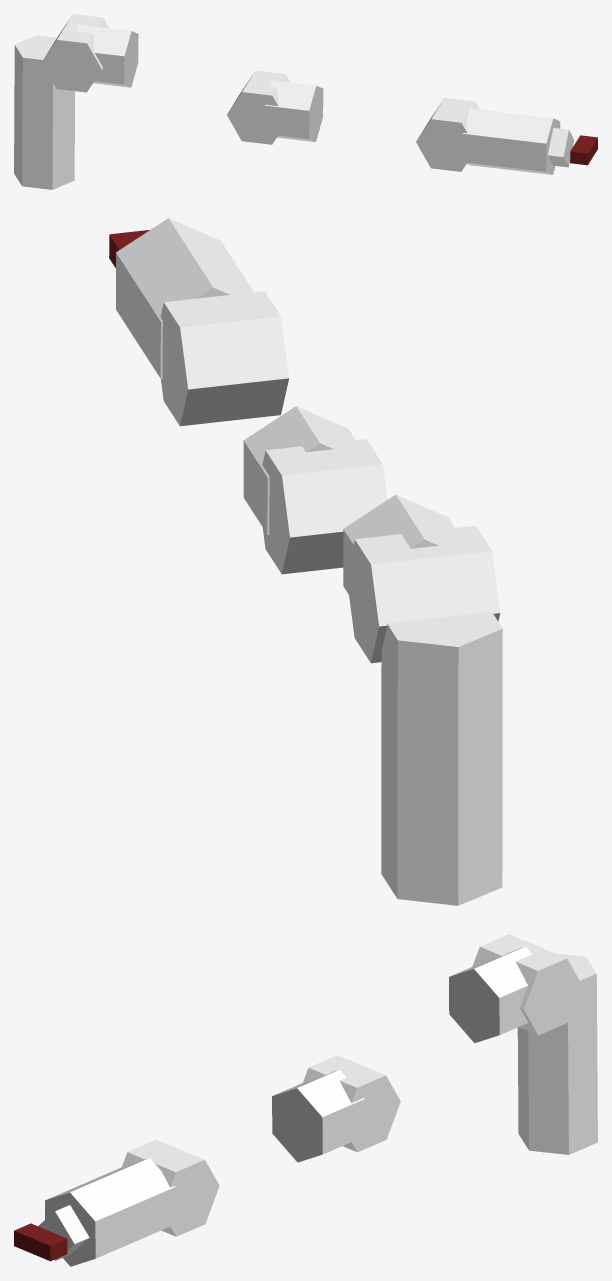
The model's file is baxter_arm.right.dae.
The picture shows the model from 3 angles, top to bottom: view 1: azimuth 30°, elevation 25°; view 2: azimuth 150°, elevation 25°; view 3: azimuth 270°, elevation 25°; orthographic projection. The views are drawn at different scales.
Visible parts, largest first — view 1: right_upper_shoulder, right_wrist, right_lower_shoulder, right_upper_forearm, right_lower_forearm, right_lower_elbow, right_upper_elbow, right_hand, right_gripper; view 2: right_upper_shoulder, right_lower_forearm, right_lower_shoulder, right_lower_elbow, right_wrist, right_upper_forearm, right_upper_elbow; view 3: right_upper_shoulder, right_wrist, right_upper_forearm, right_upper_elbow, right_lower_shoulder, right_lower_forearm, right_lower_elbow, right_gripper, right_hand.
Boxes of the visible parts, x1,y1,x2,y2 form: right_upper_shoulder: (14, 35, 74, 189); right_wrist: (462, 108, 560, 174); right_lower_shoulder: (41, 14, 108, 92); right_upper_forearm: (264, 80, 323, 142); right_lower_forearm: (416, 97, 479, 171); right_lower_elbow: (227, 70, 289, 144); right_upper_elbow: (76, 24, 138, 87); right_hand: (548, 128, 574, 167); right_gripper: (570, 135, 597, 165); right_upper_shoulder: (381, 612, 502, 905); right_lower_forearm: (160, 291, 289, 426); right_lower_shoulder: (346, 526, 500, 663); right_lower_elbow: (262, 439, 387, 574); right_wrist: (116, 218, 253, 379); right_upper_forearm: (243, 406, 355, 534); right_upper_elbow: (343, 494, 454, 594); right_upper_shoulder: (517, 953, 597, 1154); right_wrist: (45, 1158, 175, 1266); right_upper_forearm: (272, 1070, 365, 1162); right_upper_elbow: (449, 946, 532, 1043); right_lower_shoulder: (472, 934, 581, 1035); right_lower_forearm: (122, 1139, 219, 1236); right_lower_elbow: (303, 1055, 400, 1152); right_gripper: (14, 1223, 67, 1261); right_hand: (38, 1205, 89, 1260).
Bounding box in the file's own units: 0.8529 × 0.8518 × 0.3303.
